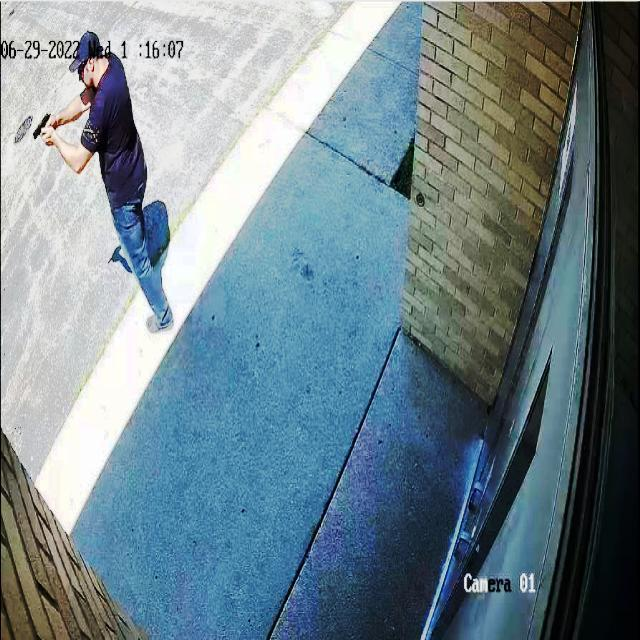Gun: (31, 102, 58, 154)
